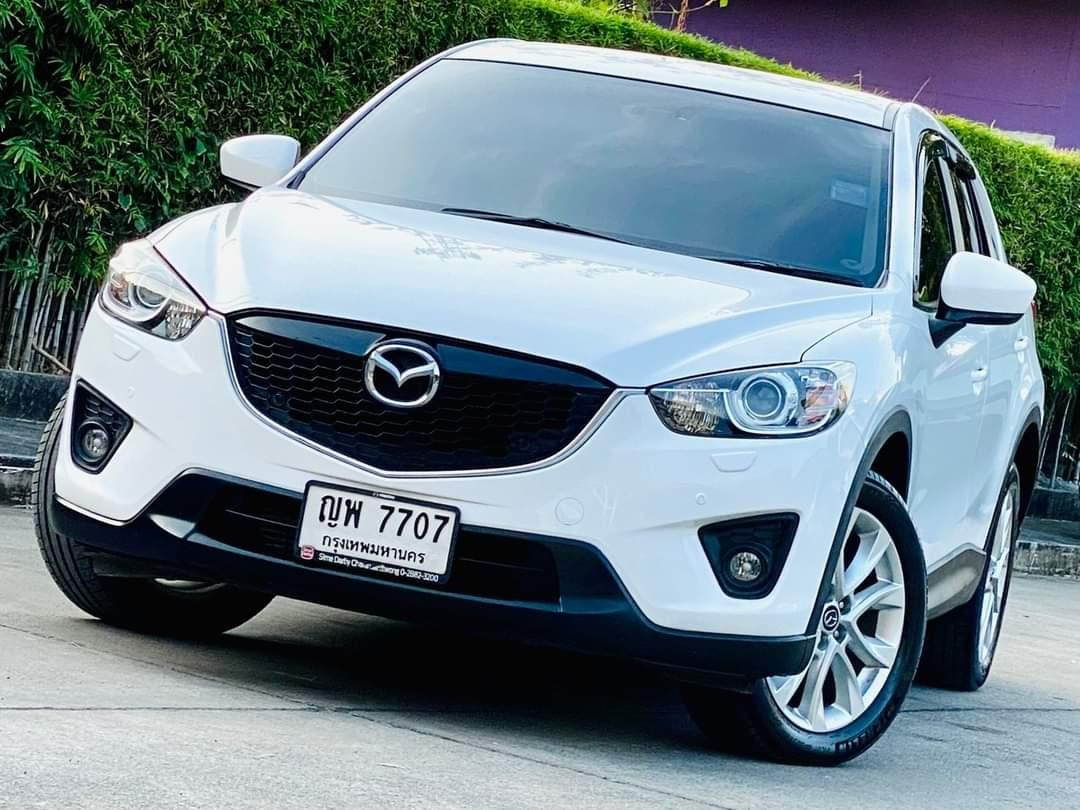license-plate: (293, 470, 463, 592)
